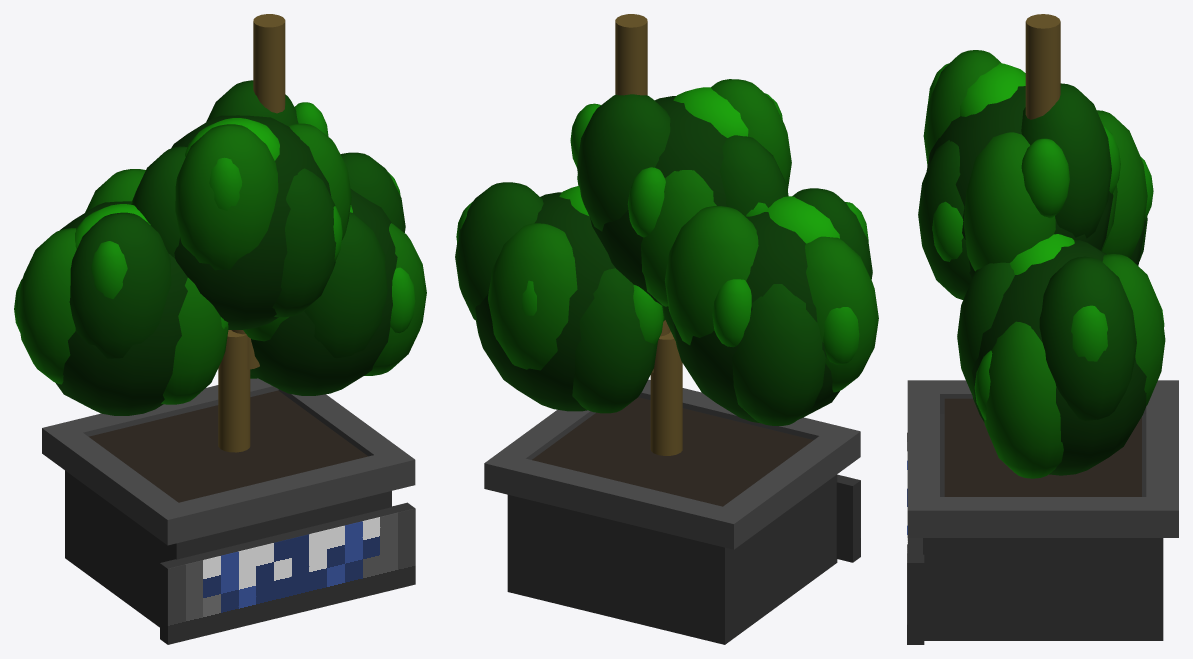
Rendered from CMU3DUpstreamPottedPlant0.glb.
3 renders of one model, left to right at view 1: azimuth 30°, elevation 25°; view 2: azimuth 150°, elevation 25°; view 3: azimuth 270°, elevation 25°, orthographic. The views are drawn at different scales.
Parts seen in each view (by area): view 1: rounded irregular leaf spray (×12), shadowed foliage core (×3), original blue and white planter marking, recessed soil, square pot base, side rim (×2), front and back rim (×2), branch (×2), fine leafy crown edge (×4), physical backing for original planter detail, crown highlight (×2); view 2: rounded irregular leaf spray (×11), square pot base, shadowed foliage core (×3), recessed soil, side rim (×2), front and back rim (×2), fine leafy crown edge (×5), branch (×2), crown highlight (×2), physical backing for original planter detail; view 3: rounded irregular leaf spray (×9), square pot base, shadowed foliage core (×2), side rim (×2), recessed soil, fine leafy crown edge (×5), front and back rim (×2), branch, crown highlight (×2), physical backing for original planter detail.
Boxes of the visible parts, box(x1,y1,x2,y2) form: rounded irregular leaf spray (×12): box(17, 80, 426, 404); shadowed foliage core (×3): box(55, 115, 397, 415); original blue and white planter marking: box(167, 508, 415, 644); recessed soil: box(89, 390, 367, 502); square pot base: box(65, 470, 391, 627); side rim (×2): box(42, 389, 415, 545); front and back rim (×2): box(68, 378, 389, 538); branch (×2): box(218, 14, 285, 452); fine leafy crown edge (×4): box(91, 102, 415, 333); physical backing for original planter detail: box(160, 502, 414, 644); crown highlight (×2): box(75, 118, 279, 248); rounded irregular leaf spray (×11): box(455, 79, 878, 425); square pot base: box(507, 474, 837, 644); shadowed foliage core (×3): box(475, 96, 839, 423); recessed soil: box(532, 397, 813, 506); side rim (×2): box(484, 409, 860, 549); front and back rim (×2): box(510, 379, 833, 543); fine leafy crown edge (×5): box(570, 103, 859, 364); branch (×2): box(615, 14, 682, 455); crown highlight (×2): box(673, 87, 839, 243); physical backing for original planter detail: box(836, 475, 860, 562); rounded irregular leaf spray (×9): box(918, 50, 1165, 478); square pot base: box(923, 414, 1163, 640); shadowed foliage core (×2): box(926, 86, 1146, 475); side rim (×2): box(907, 380, 1178, 537); recessed soil: box(944, 398, 1141, 496); fine leafy crown edge (×5): box(932, 126, 1120, 420); front and back rim (×2): box(907, 394, 1178, 496); branch: box(1025, 14, 1060, 119); crown highlight (×2): box(960, 63, 1074, 274); physical backing for original planter detail: box(907, 538, 924, 644).
Bounding box in the file's own units: 0.6769 × 0.891 × 0.3754.
Materials: 10 (1 with a texture image).
